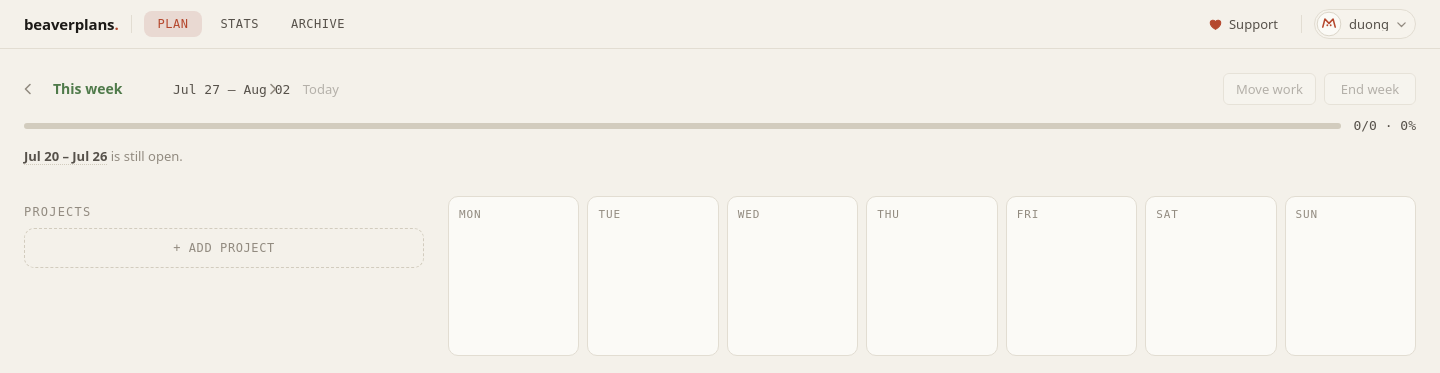
Test case: App under the weeks model › signed in › signing out drops back to the guest board
The width and height of the screenshot is (1440, 373).
What coordinates should you click on to do the following:
click the button with aria-label "Account: duong"
I would click on:
 (1365, 24)
Its box is [1314, 9, 1416, 39].
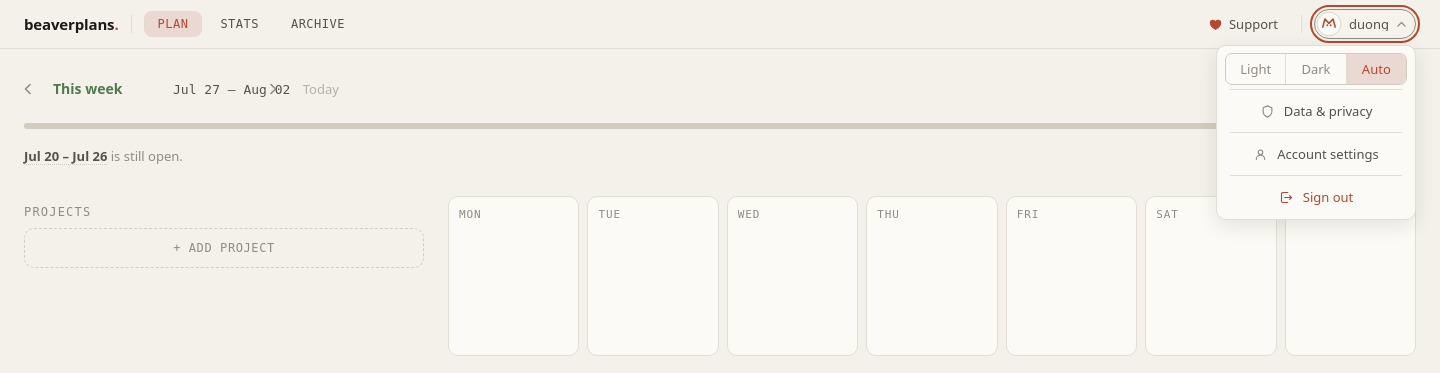
What coordinates should you click on to do the following:
click the menu item "Sign out"
I would click on:
 (1316, 197)
Its box is [1222, 180, 1410, 214].
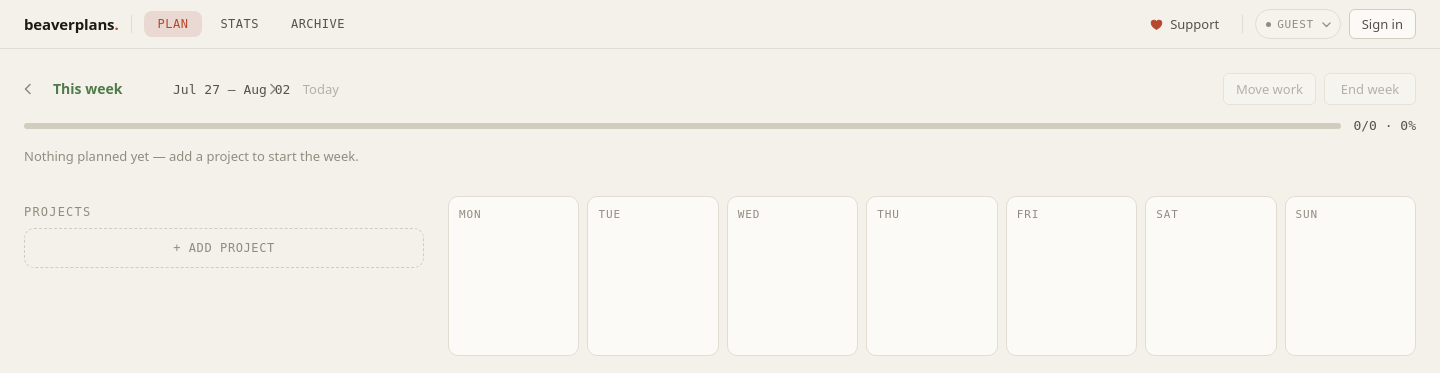
Now the button "Sign in" is shown, box [1349, 9, 1416, 39]
Now the text "Nothing planned yet — add a project to start the week." is shown, box [24, 147, 359, 165]
